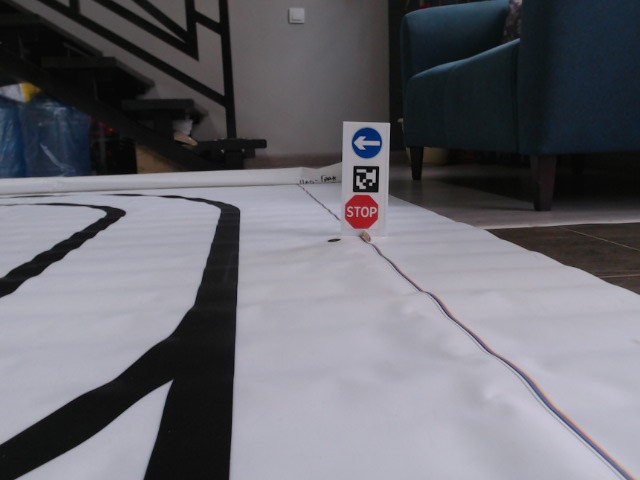Stop: (344, 193, 380, 230)
